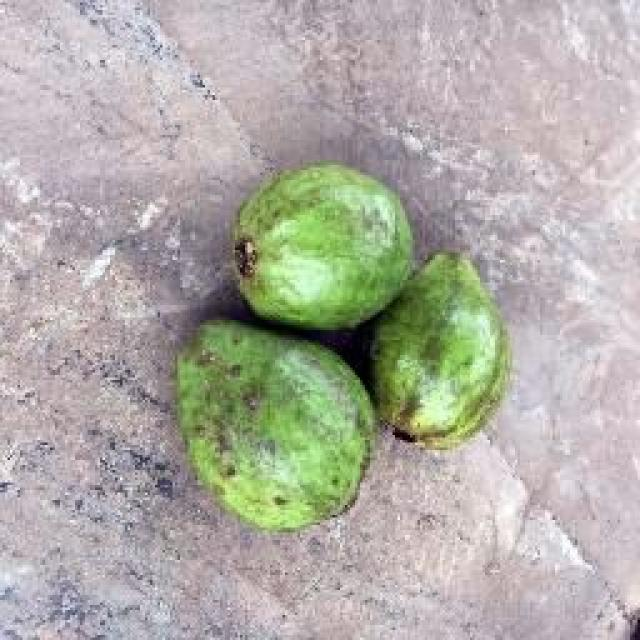Good_Guava: (235, 162, 420, 338)
